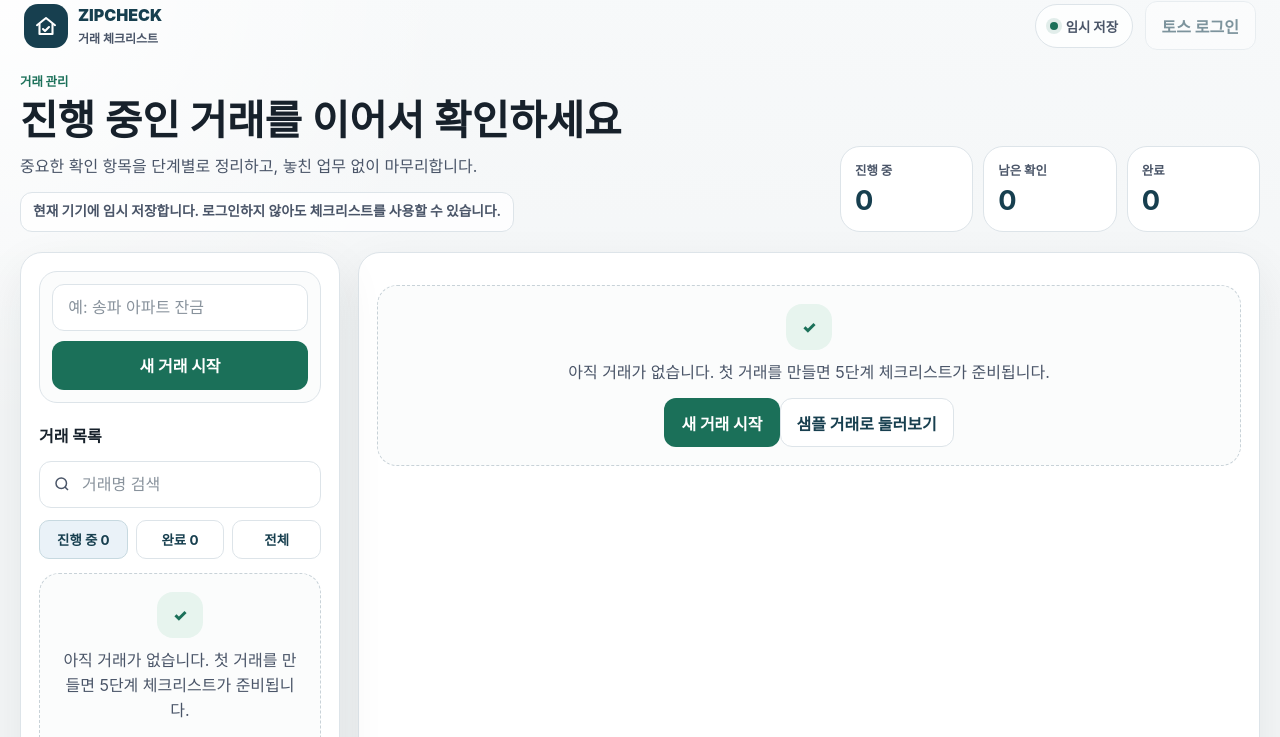
App broker checklist › shows item guide controls with practical guidance instead of generic detail wording
Type "가이드 검증" into the field named "거래명" at (180, 307), box [52,284,308,330]
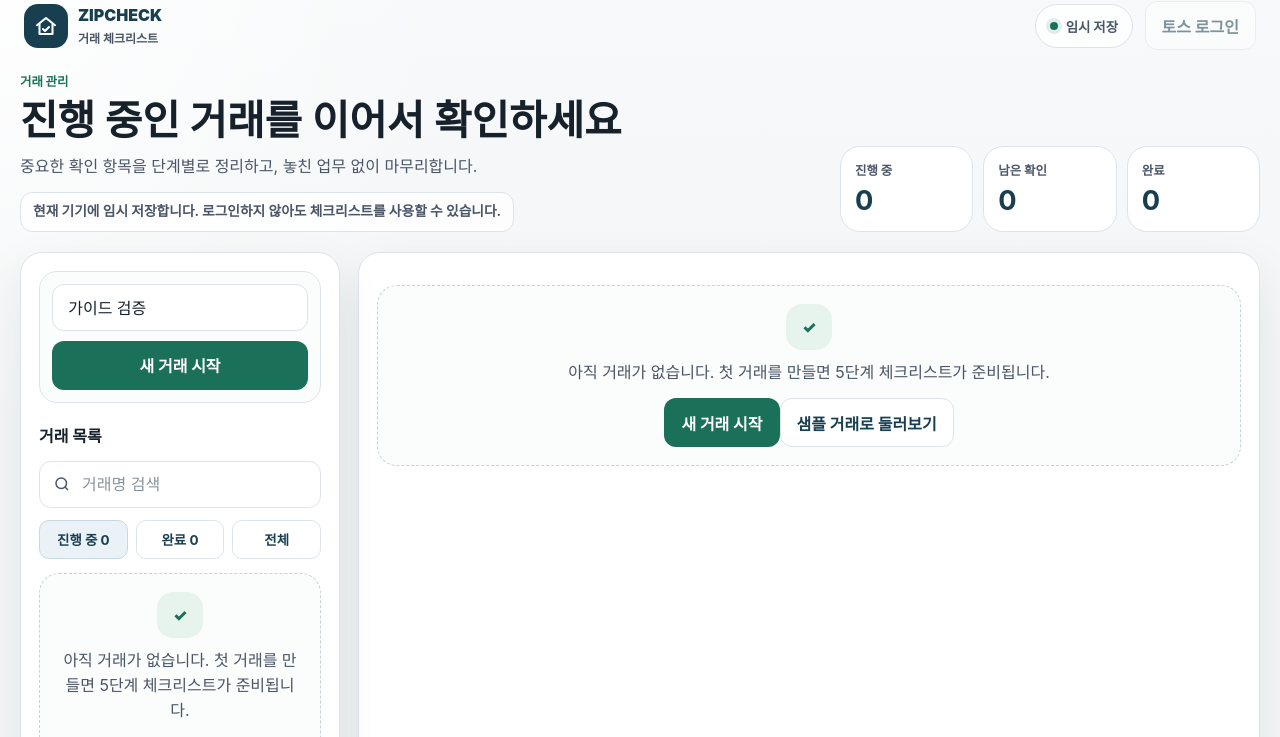
Click the 1st button "새 거래 시작" at (180, 365), box [52,341,308,390]
(page scrolled)
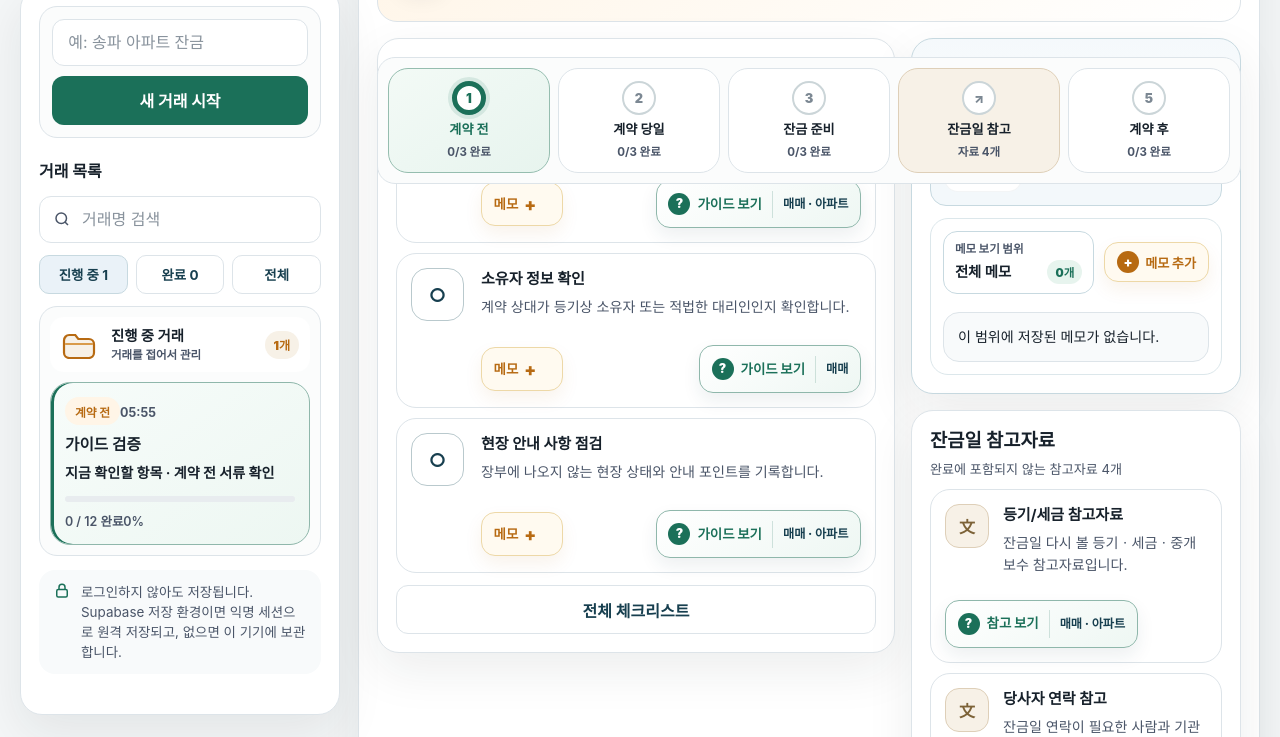
Click the button with aria-label "소유자 정보 확인 가이드 보기" at (780, 369), box [699,345,861,393]
(page scrolled)
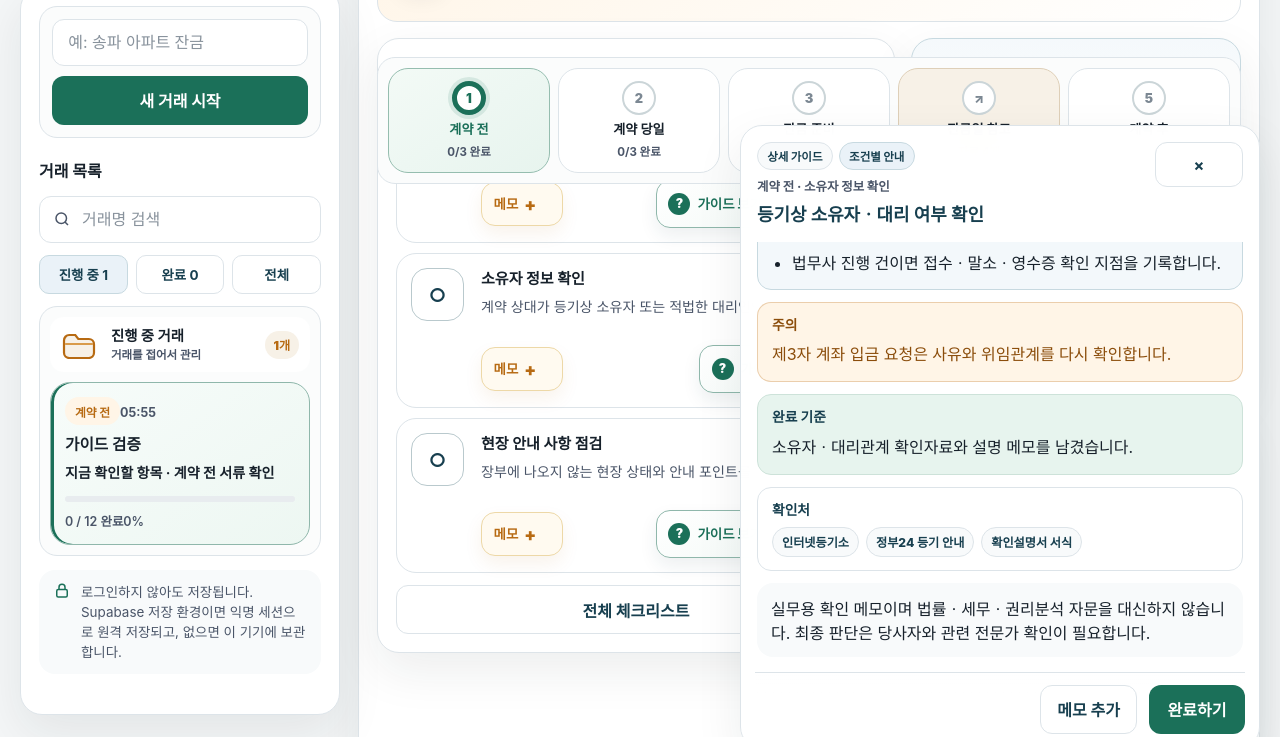
Result: the link "인터넷등기소" is shown at [772,527,859,557]
Result: the link "정부24 등기 안내" is shown at [866,527,974,557]
